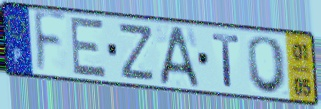A: (158, 25, 202, 89)
E: (69, 15, 109, 80)
F: (32, 8, 68, 77)
O: (246, 34, 290, 96)
T: (210, 31, 241, 90)
Z: (118, 23, 156, 84)
